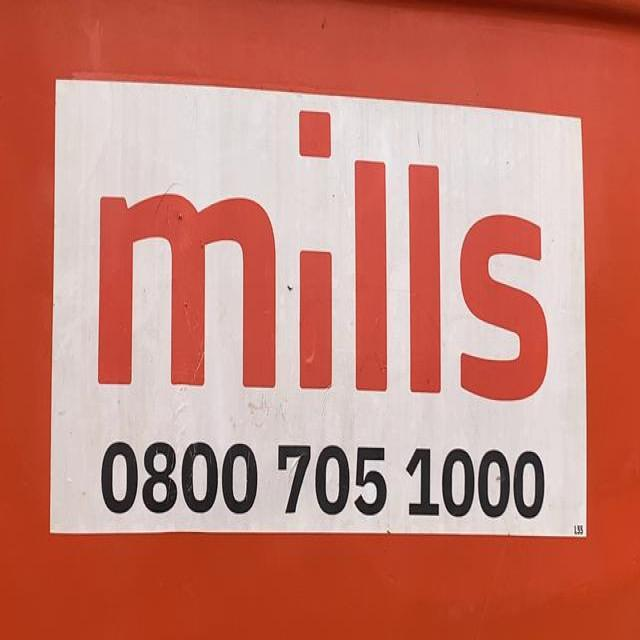Adesivos: (40, 65, 597, 560)
